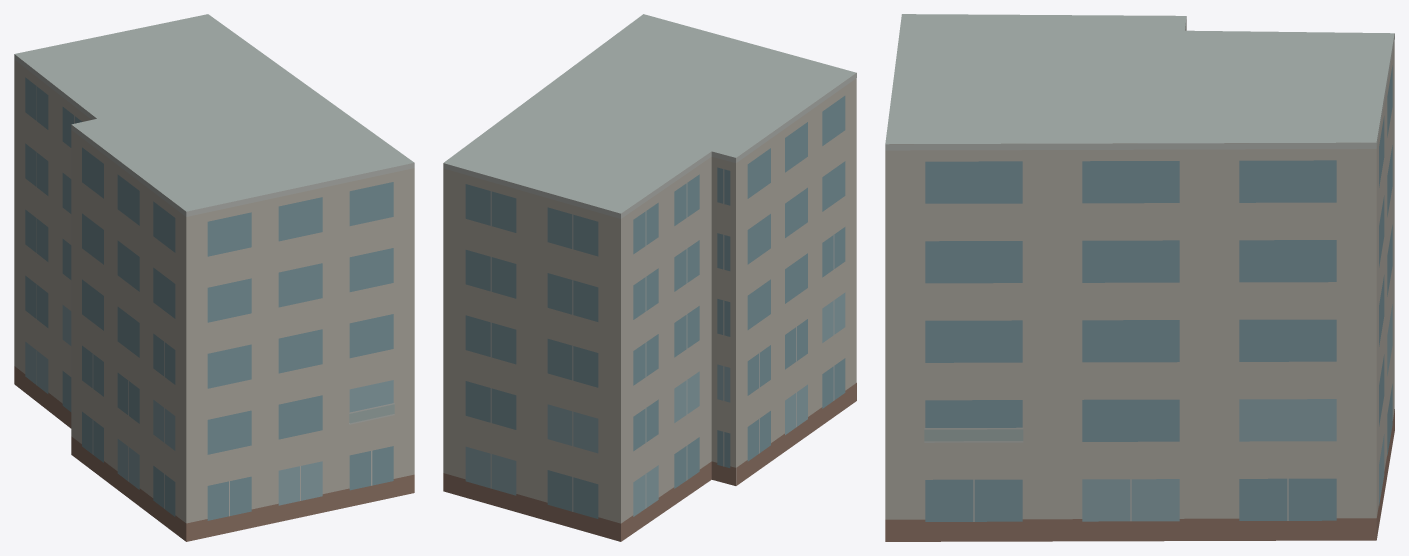
File: survey-upis-33024908.glb
3 renders of one model, left to right at view 1: azimuth 30°, elevation 25°; view 2: azimuth 150°, elevation 25°; view 3: azimuth 270°, elevation 25°, orthographic. The views are drawn at different scales.
Visible parts, largest first — view 1: survey-upis-33024908.tmp; view 2: survey-upis-33024908.tmp; view 3: survey-upis-33024908.tmp.
Part boxes in pixels (bbox=[...]): survey-upis-33024908.tmp: bbox=[14, 14, 414, 541]; survey-upis-33024908.tmp: bbox=[443, 14, 856, 541]; survey-upis-33024908.tmp: bbox=[885, 14, 1394, 541].
Bounding box in the file's own units: 10.63 × 15.1 × 17.54.
